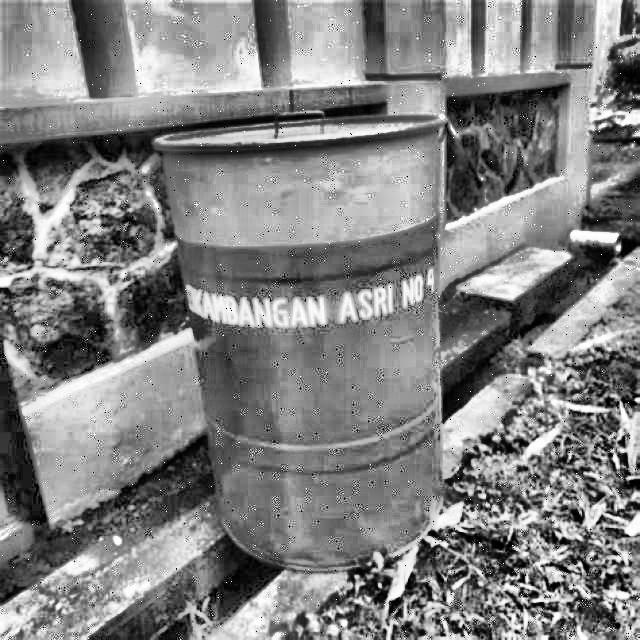Dustbin: (122, 102, 467, 580)
